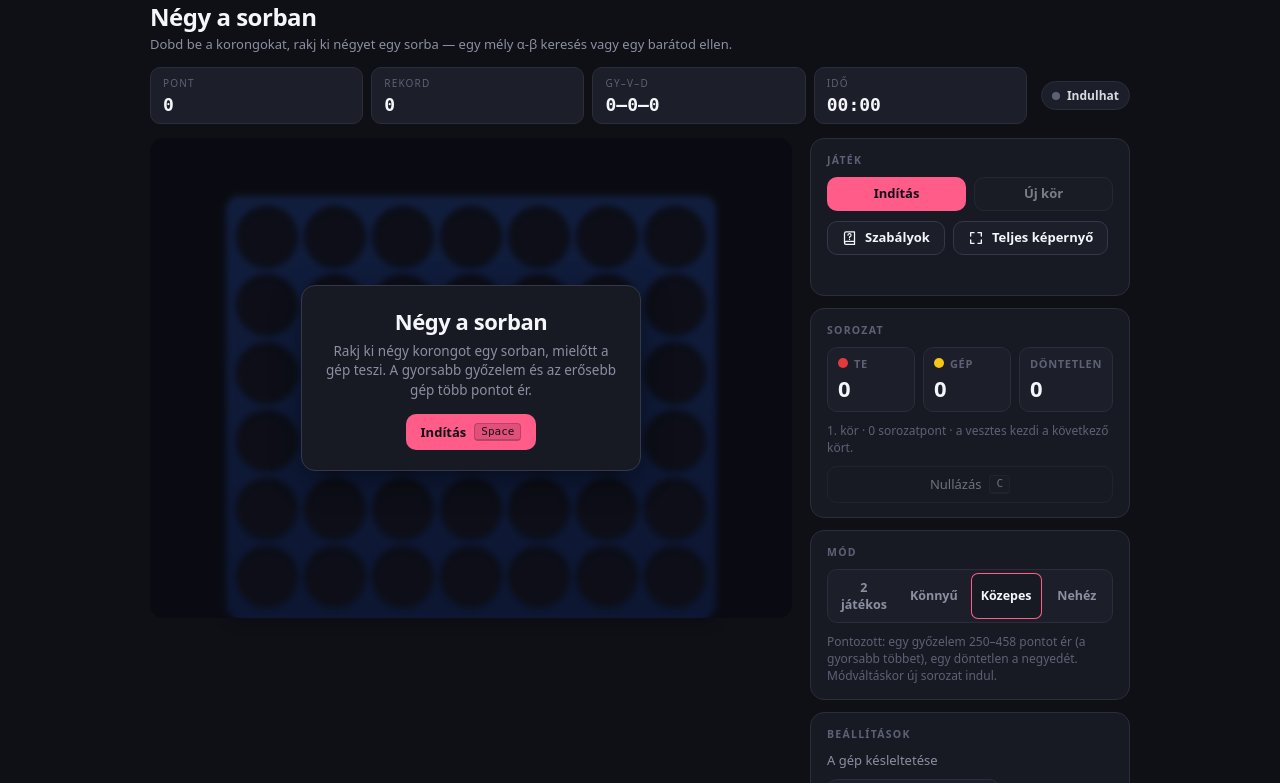
Test: Connect Four finish early › confirms with the round score 0, ranks it once, ends the match and drops the save
Press Space
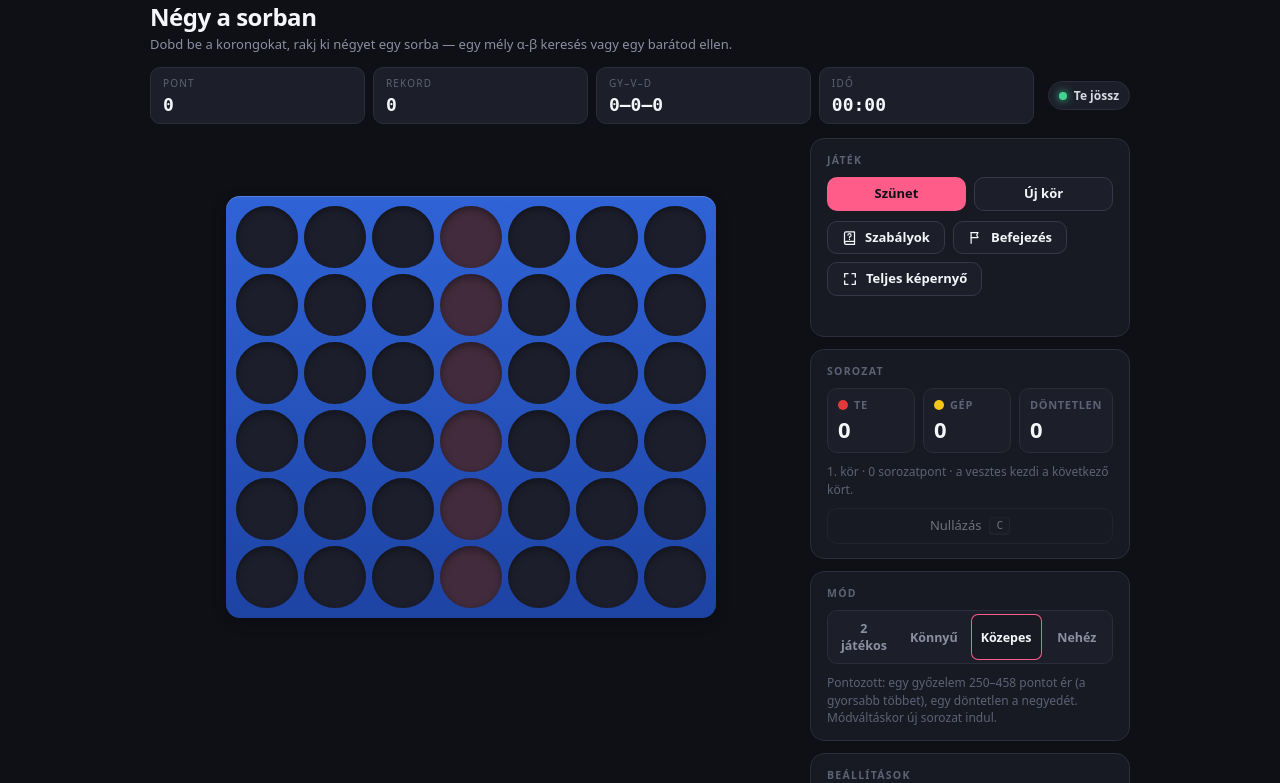
Click the button named "4. oszlop, üres" at (471, 373), box [440,138,502,608]
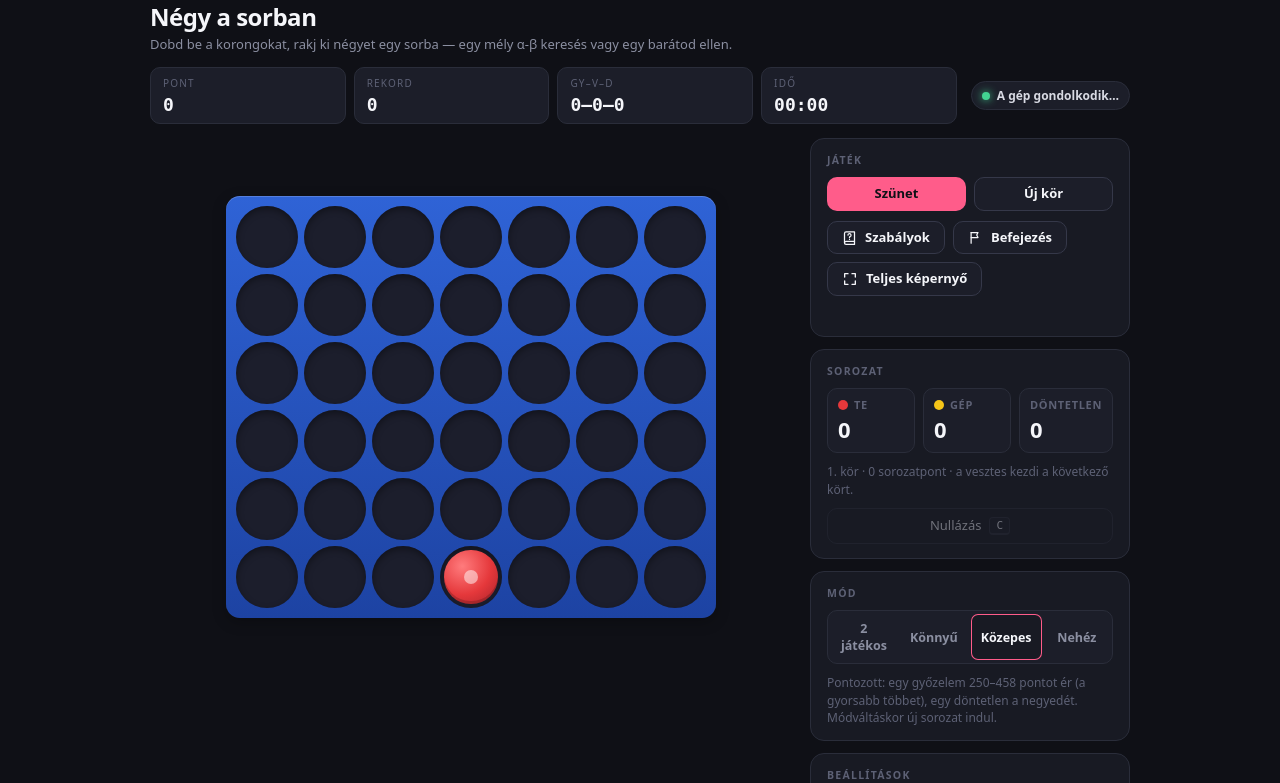
Click the button "Befejezés" at (1010, 237), box [953,221,1067,254]
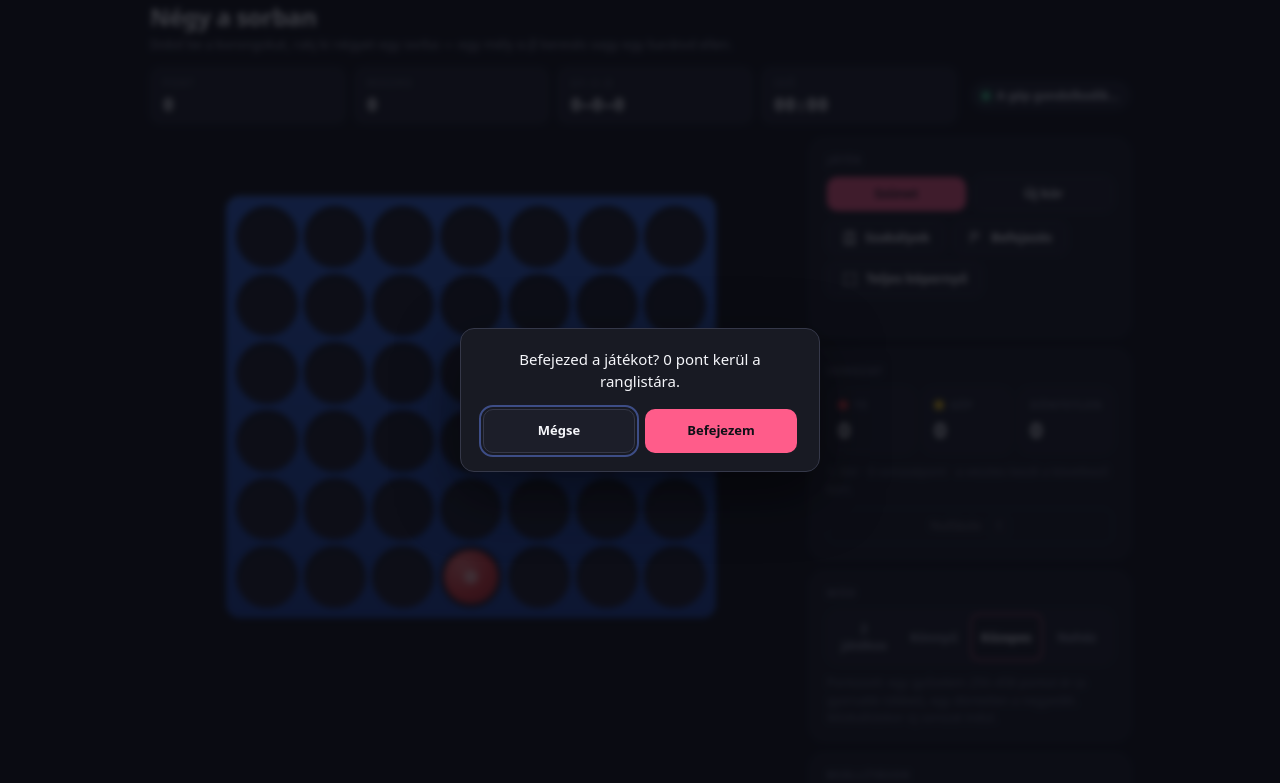
Now the dialog shows "0 pont kerül a ranglistára", box [519,349,761,391]
Click the button "Befejezem" at (721, 431), box [645,409,797,453]
Wait 4000 ms
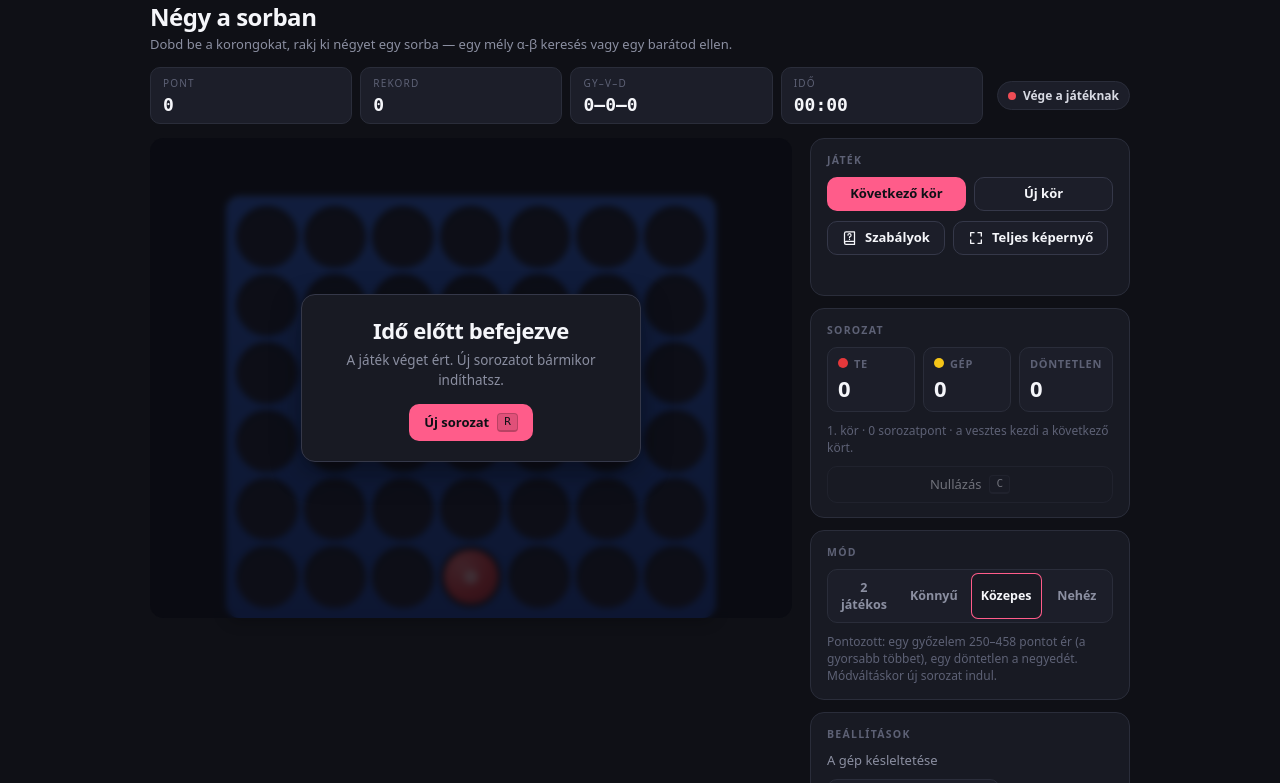
Now the dialog "Idő előtt befejezve" is shown, box [150,138,792,618]
Now the button "Befejezés" is gone
